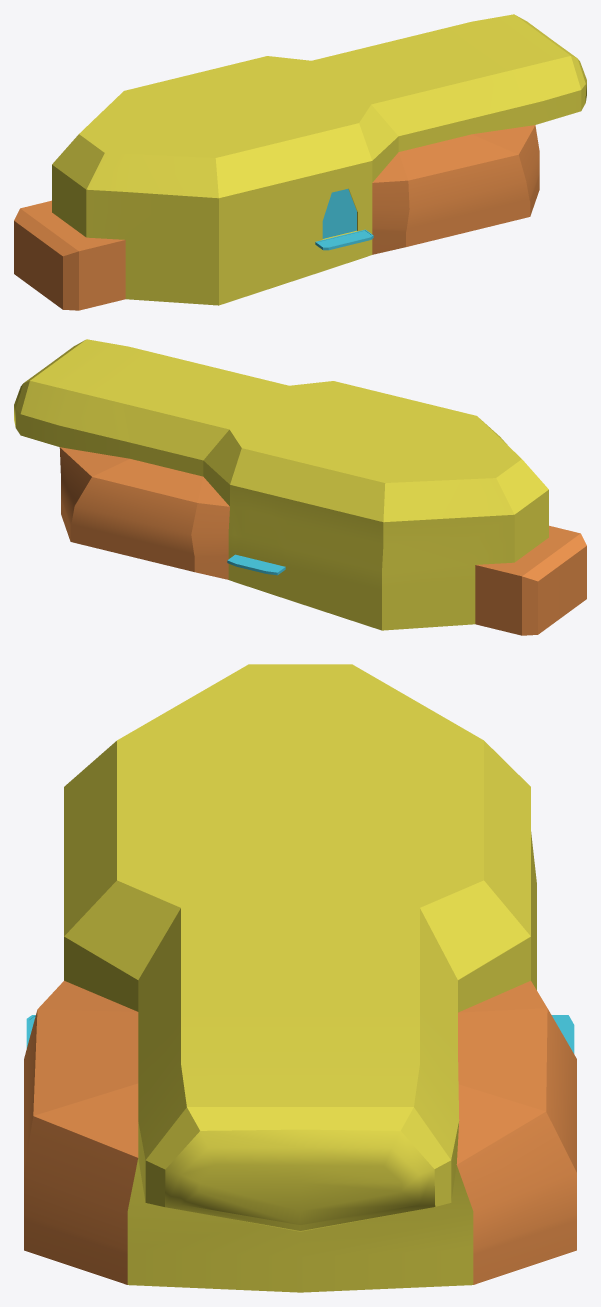
File: ShipShip.fbx
The picture shows the model from 3 angles, top to bottom: view 1: azimuth 30°, elevation 25°; view 2: azimuth 150°, elevation 25°; view 3: azimuth 270°, elevation 25°; orthographic projection. The views are drawn at different scales.
Parts seen in each view (by area): view 1: Ship; view 2: Ship; view 3: Ship.
Part boxes in pixels (x1,y1,x2,y2): Ship: (14, 14, 586, 310); Ship: (14, 339, 586, 635); Ship: (24, 664, 576, 1292).
Size of the model in its own units: 96 by 23.86 by 44.16.
